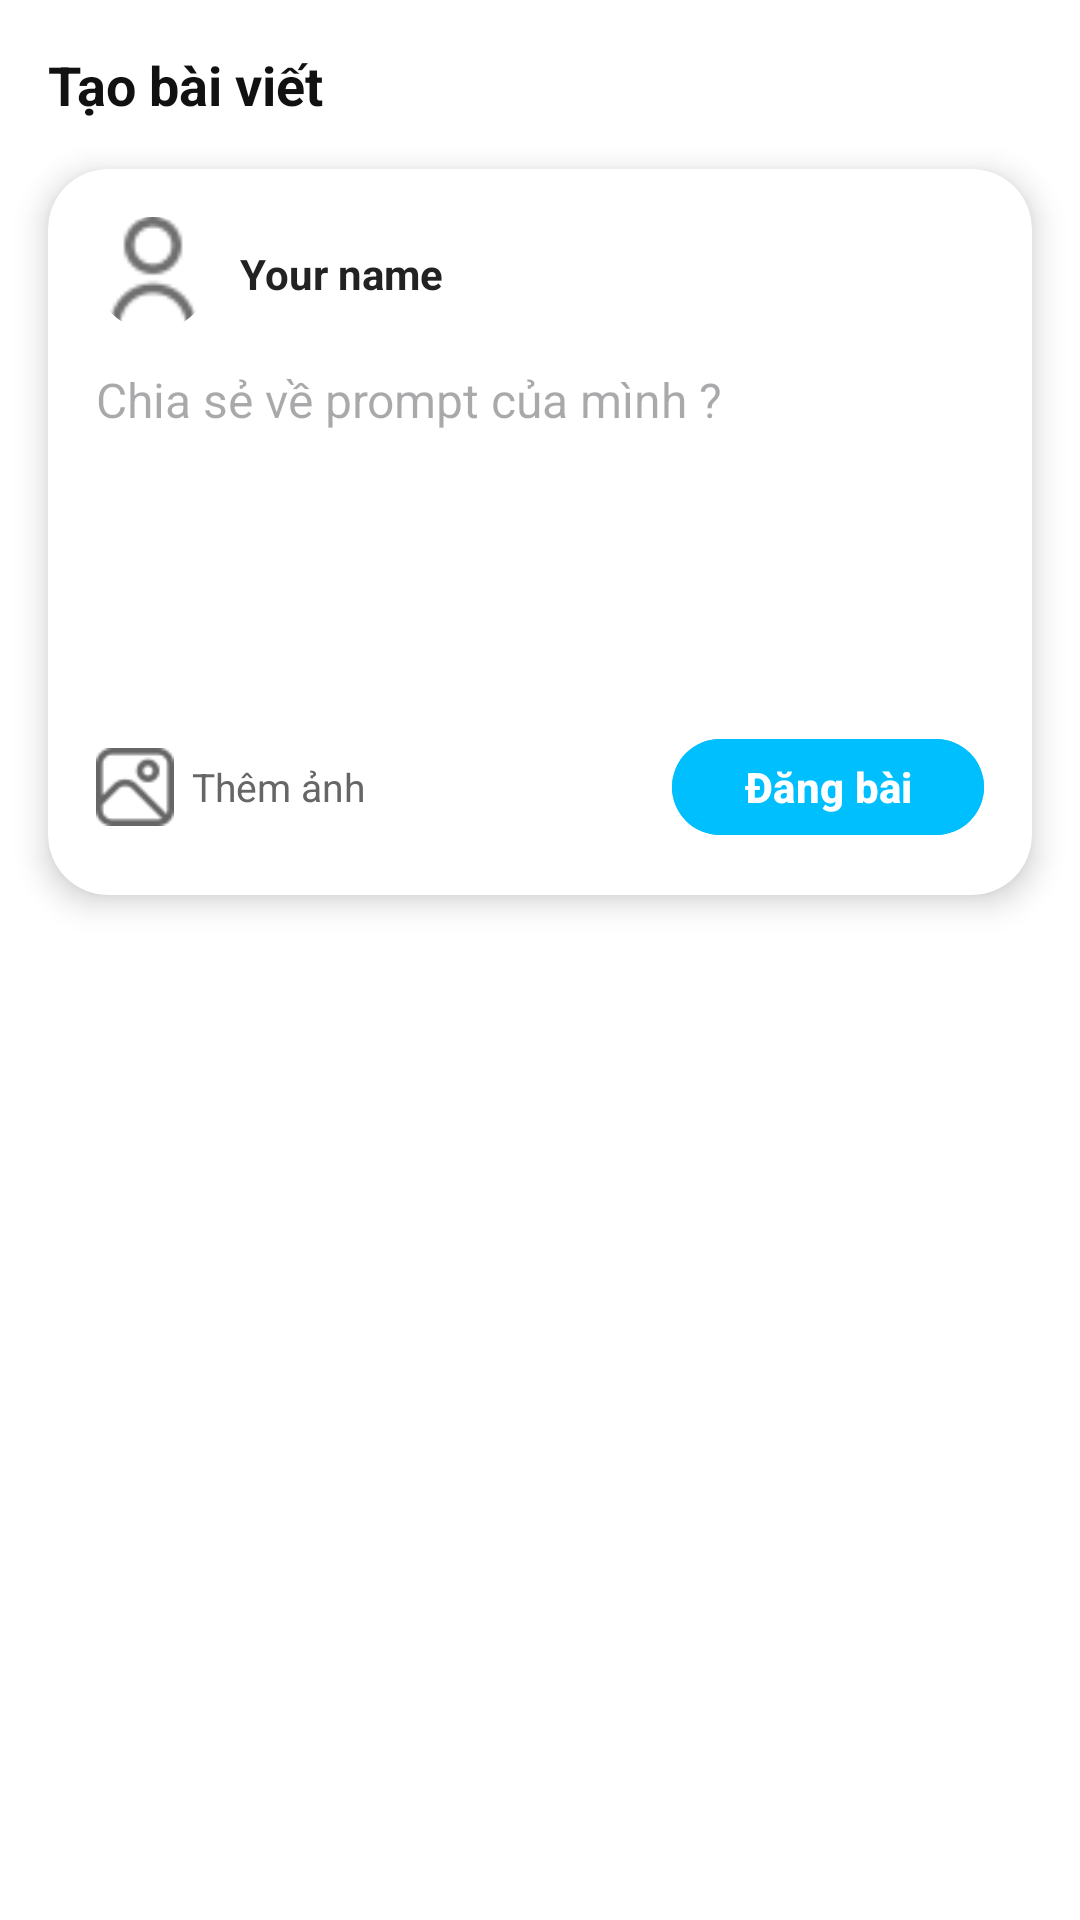

Icon click points for this 1080×1920 phone screenshot, format point (x, y):
user: point (153, 269)
